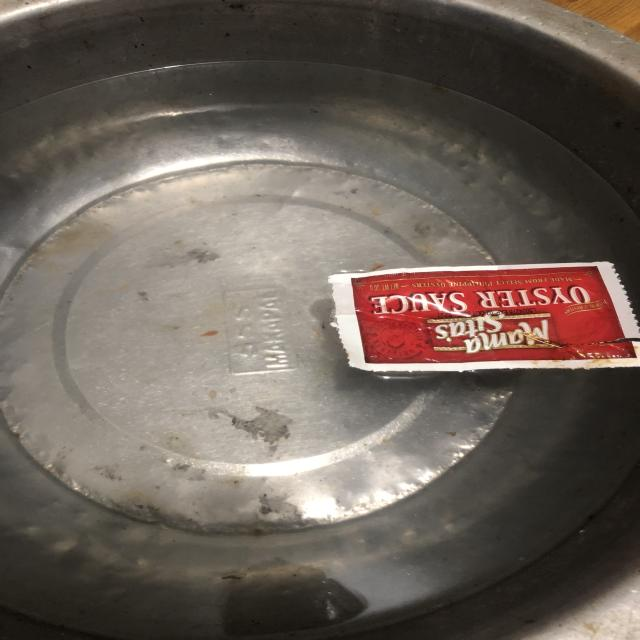Plastic Wrapper: (328, 262, 640, 372)
